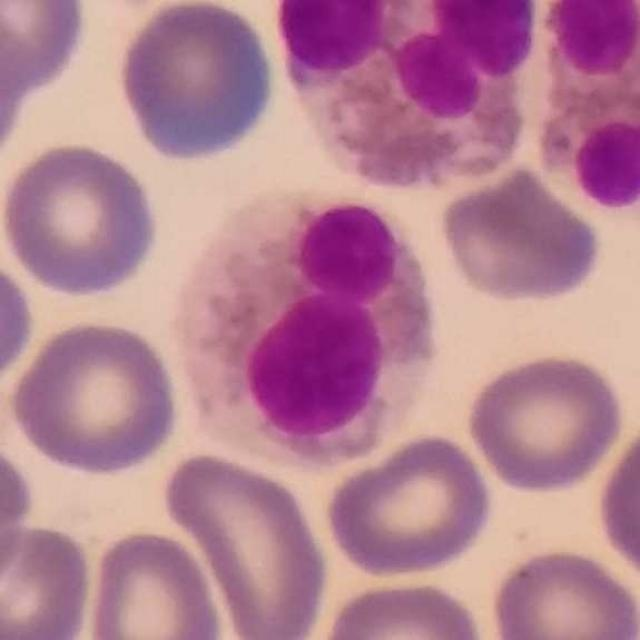eosino: (176, 190, 435, 475), (284, 0, 532, 183), (526, 0, 640, 214)
